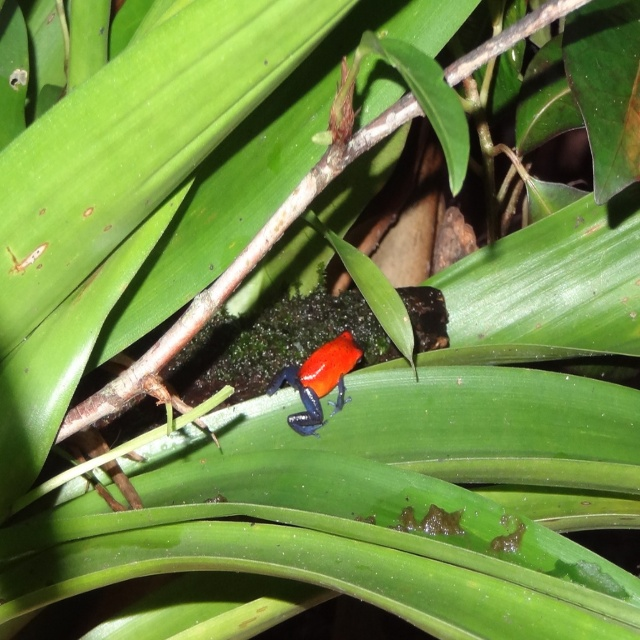Frog: (265, 327, 364, 437)
